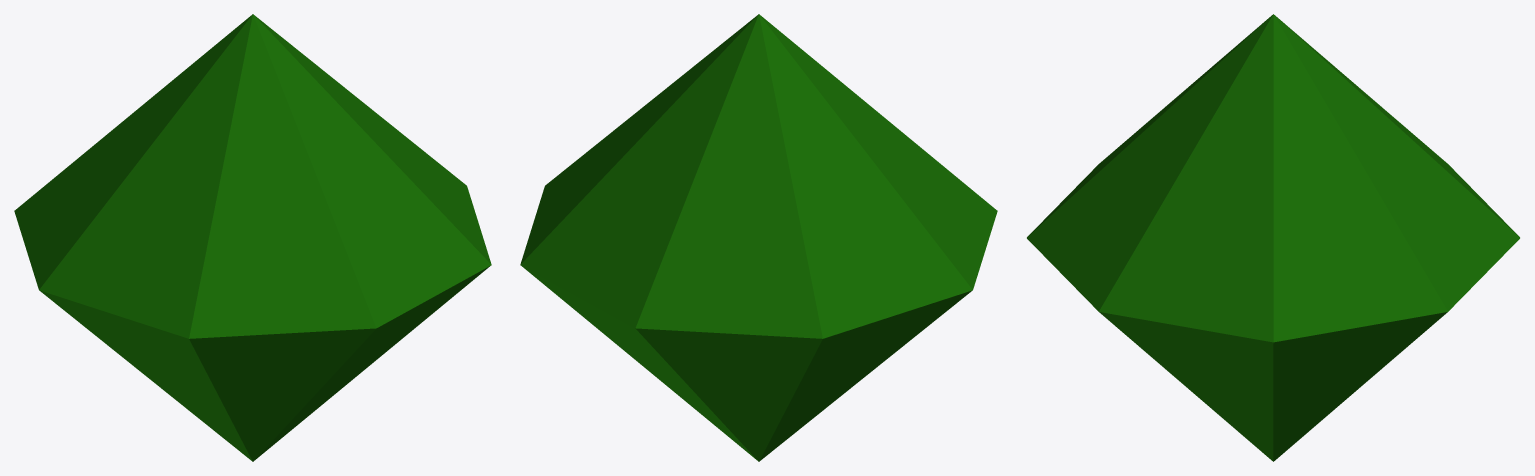
Rendered from 14_Prism.fbx.
The picture shows the model from 3 angles, left to right: view 1: azimuth 30°, elevation 25°; view 2: azimuth 150°, elevation 25°; view 3: azimuth 270°, elevation 25°; orthographic projection.
Parts seen in each view (by area): view 1: Prism; view 2: Prism; view 3: Prism.
Boxes of the visible parts, box(x1,y1,x2,y2) form: Prism: box(14, 14, 491, 461); Prism: box(520, 14, 997, 461); Prism: box(1027, 14, 1519, 461).
Bounding box in the file's own units: 100 × 100 × 100.
